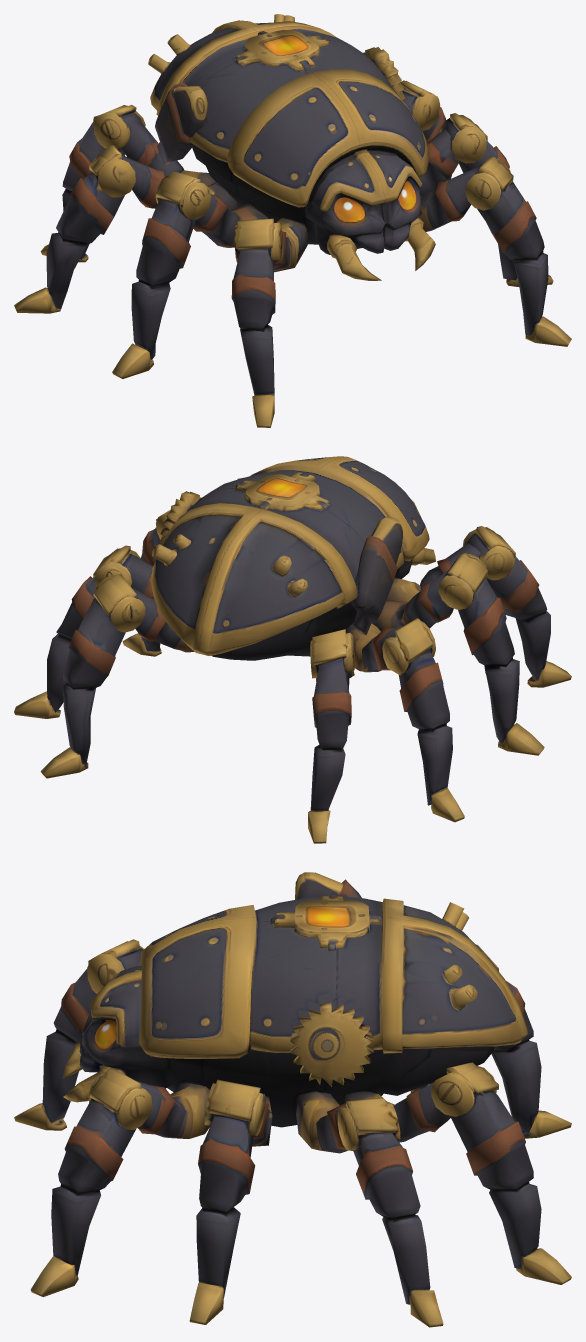
Rendered from clockwork-spider-ready.glb.
3 views of the same model, one above another, from view 1: azimuth 30°, elevation 25°; view 2: azimuth 150°, elevation 25°; view 3: azimuth 270°, elevation 25° (orthographic). The views are drawn at different scales.
Parts seen in each view (by area): view 1: body, leg1, leg4, leg2, leg0, leg3, leg5, leg6; view 2: body, leg1, leg7, leg2, leg0, leg3, leg6, leg5; view 3: body, leg4, leg7, leg6, leg5, leg0, leg3.
Part boxes in pixels (x1,y1,x2,y2): body: (148,14,435,280); leg1: (112,171,268,378); leg4: (419,156,571,346); leg2: (14,145,236,313); leg0: (231,218,307,427); leg3: (40,105,215,262); leg5: (419,113,553,286); leg6: (401,80,451,181); body: (151,456,435,660); leg1: (373,553,544,755); leg7: (40,574,194,778); leg2: (346,618,464,822); leg0: (386,526,571,687); leg3: (308,629,355,843); leg6: (14,545,153,718); leg5: (122,510,170,656); body: (62,872,527,1127); leg4: (30,1067,210,1297); leg7: (344,1062,571,1284); leg6: (296,1091,443,1327); leg5: (189,1079,272,1324); leg0: (14,939,143,1130); leg3: (476,944,571,1138).
Bounding box in the file's own units: 12.99 × 6.87 × 11.98.
Materials: 1 (1 with a texture image).
